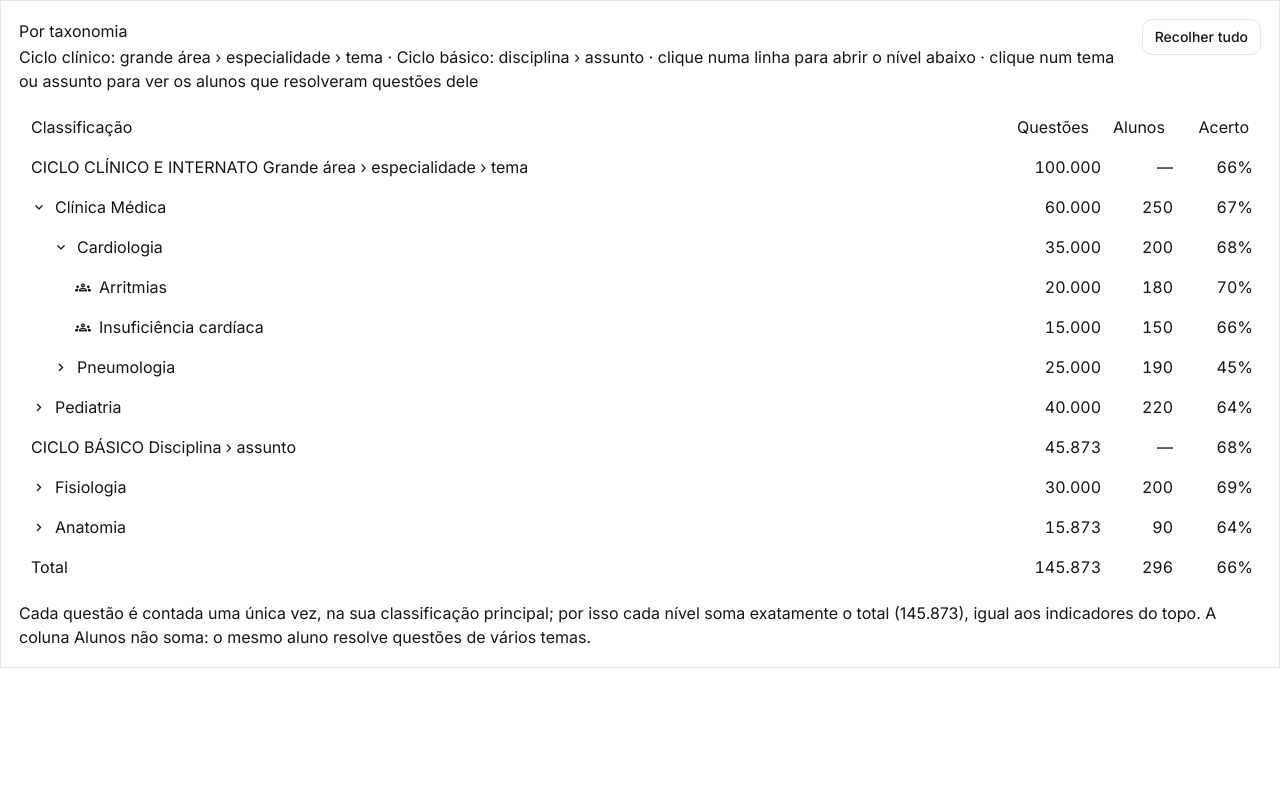
Test: GavetaTaxonomia — abrir e fechar (§12.3) › aria-label "Abrir {nome}" / "Recolher {nome}" e o clique alterna
Later steps or results of the test are not shown.
Expected: the button with aria-label "Recolher Cardiologia" is shown, [53,235,163,259]
Click the button with aria-label "Abrir Pneumologia". click: (114, 367)
box: [53,355,175,379]
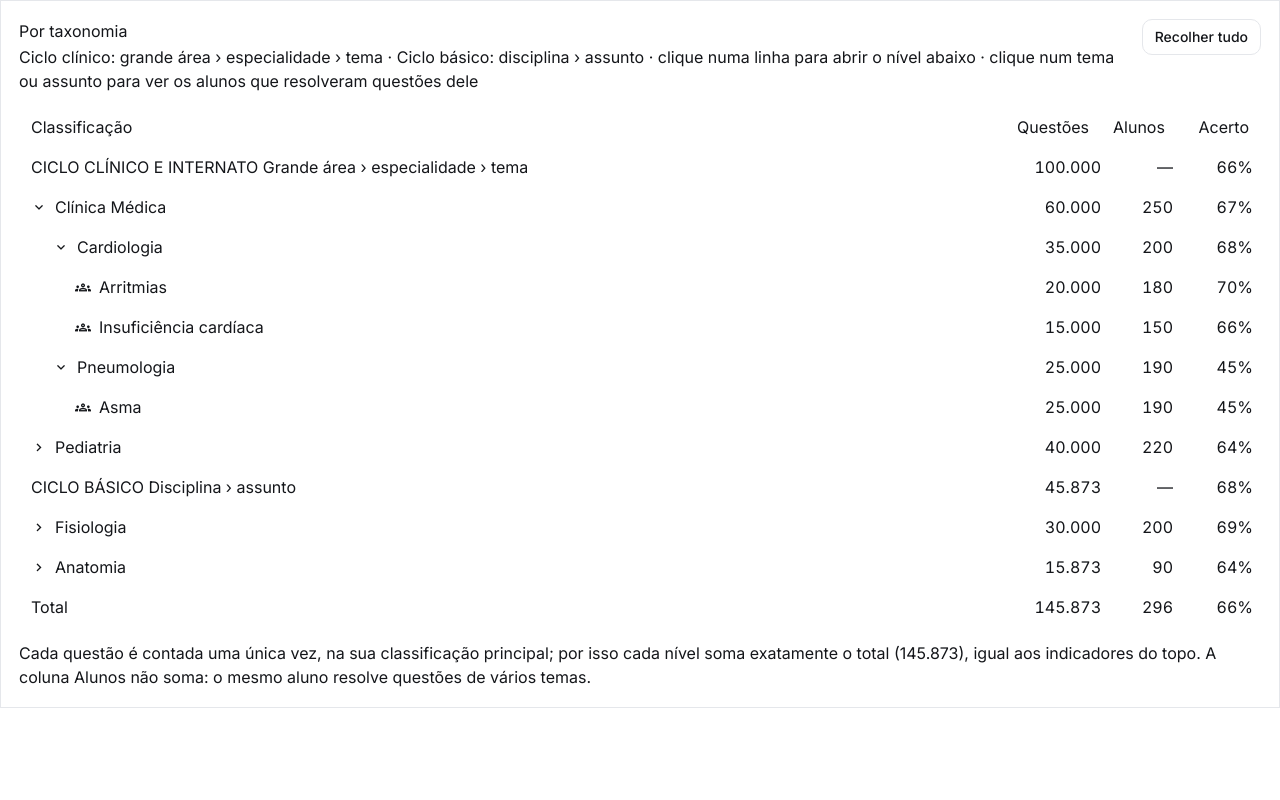
Now the button with aria-label "Recolher Pneumologia" is shown, box [53,355,175,379]
